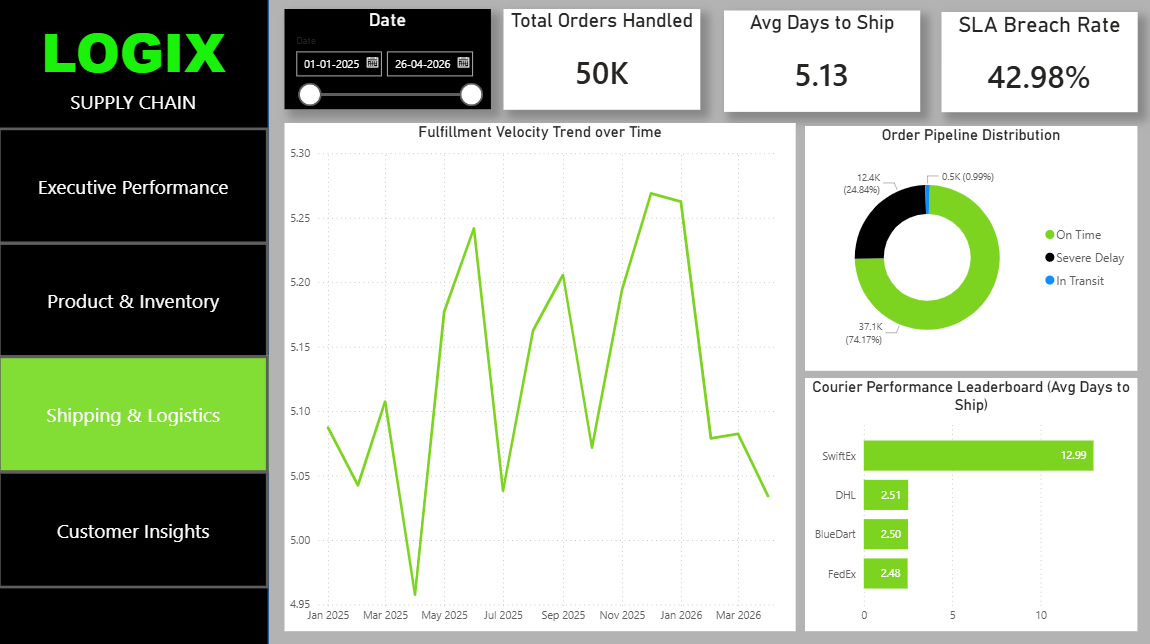

The page's visual inventory and layout, read from the dashboard file:
{"tool":"powerbi","page":{"name":"Shipping & Logistics","canvas":[1280,720],"ordinal":2},"visuals":[{"type":"slicer","title":"Date","fields":{"Values":["Calendar.Date"]},"box":[318.1,12.7,229,111.3],"z":0},{"type":"shape","box":[0,0,300.6,720.5],"z":1000,"group":"g1"},{"type":"cardVisual","title":"Total Orders Handled","fields":{"Data":["_Measures.Total Orders Handled"]},"box":[561.9,13,218.6,111.7],"z":1000},{"type":"cardVisual","title":"Avg Days to Ship","fields":{"Data":["_Measures.Avg Days to Ship"]},"box":[806.4,14.3,217.9,112.9],"z":2000},{"type":"actionButton","box":[0,144.7,300.6,130.4],"z":2000,"group":"g1"},{"type":"cardVisual","title":"SLA Breach Rate","fields":{"Data":["_Measures.SLA Breach Rate"]},"box":[1048.2,15.9,217.9,111.3],"z":3000},{"type":"actionButton","box":[0,272,300.6,130.4],"z":3000,"group":"g1"},{"type":"actionButton","box":[0,399,300.6,130.4],"z":4000,"group":"g1"},{"type":"barChart","title":"Courier Performance Leaderboard (Avg Days to Ship)","fields":{"Category":["orders.courier_partner"],"Y":["_Measures.Avg Days to Ship"]},"box":[897.1,423.1,369,281.5],"z":4000},{"type":"lineChart","title":"Fulfillment Velocity Trend over Time","fields":{"Y":["_Measures.Avg Days to Ship"],"Category":["Calendar.Date.Variation.Date Hierarchy.Year","Calendar.Date.Variation.Date Hierarchy.Month"]},"box":[318.1,140,567.8,564.7],"z":5000},{"type":"actionButton","box":[0,527,300.6,130.4],"z":5000,"group":"g1"},{"type":"donutChart","title":"Order Pipeline Distribution","fields":{"Category":["orders.shipping_status"],"Y":["_Measures.Total Orders Handled"]},"box":[897.1,143.2,369,272],"z":6000},{"type":"group","id":"g1","title":"Group 1","box":[0,0,300.6,720.5],"z":7000},{"type":"textbox","title":"LOGIX SUPPLY CHAIN","box":[0,0,300.6,144.7],"z":9000,"group":"g1"}]}

Visuals, with their boxes in screenshot pixels (x1, y1, x2, y2), scaled from the page's 1280x720 canvas onto the 1150x644 screenshot:
"Date" slicer: bbox(286, 11, 492, 111)
shape: bbox(0, 0, 270, 643)
"Total Orders Handled" cardVisual: bbox(505, 12, 701, 112)
"Avg Days to Ship" cardVisual: bbox(724, 13, 920, 114)
actionButton: bbox(0, 129, 270, 246)
"SLA Breach Rate" cardVisual: bbox(942, 14, 1138, 114)
actionButton: bbox(0, 243, 270, 360)
actionButton: bbox(0, 357, 270, 474)
"Courier Performance Leaderboard (Avg Days to Ship)" barChart: bbox(806, 378, 1138, 630)
"Fulfillment Velocity Trend over Time" lineChart: bbox(286, 125, 796, 630)
actionButton: bbox(0, 471, 270, 588)
"Order Pipeline Distribution" donutChart: bbox(806, 128, 1138, 371)
"Group 1" group: bbox(0, 0, 270, 643)
"LOGIX SUPPLY CHAIN" textbox: bbox(0, 0, 270, 129)
